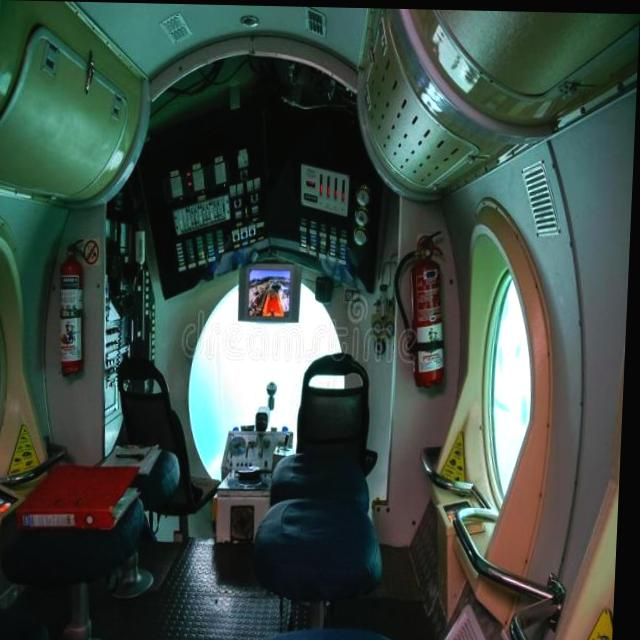FireExtinguisher: (388, 218, 457, 397), (54, 229, 96, 384)
